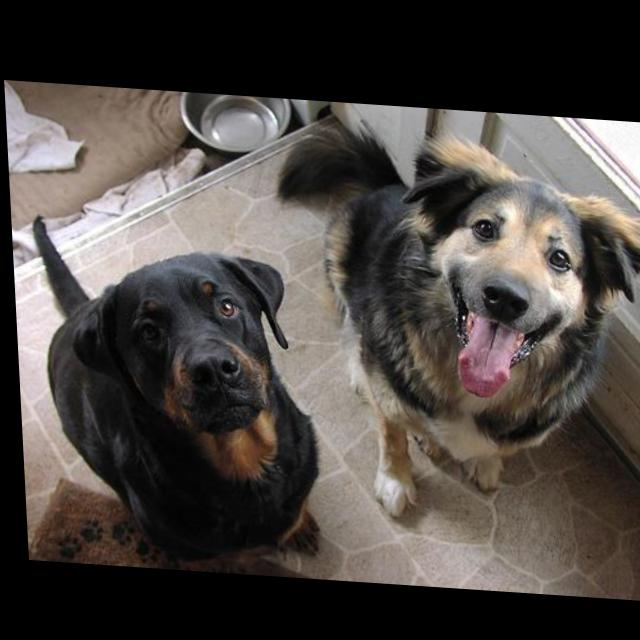other_dog_breed: (273, 110, 640, 528)
rottweiler: (28, 214, 320, 577)
